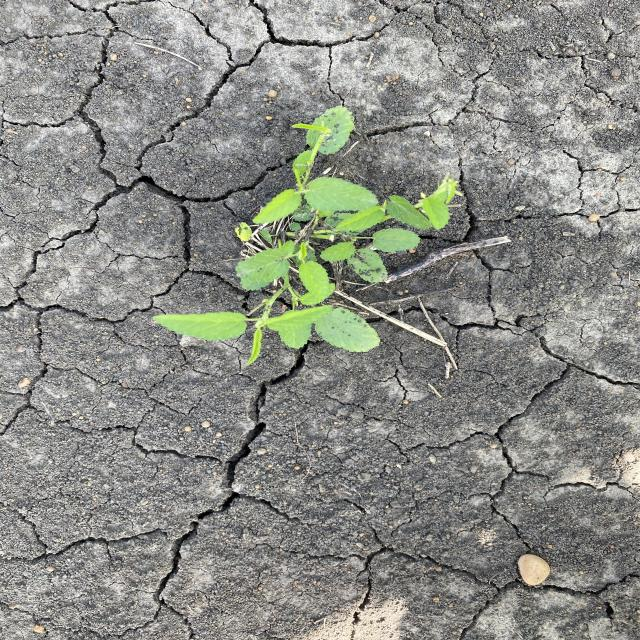PricklySida: (150, 104, 460, 368)
